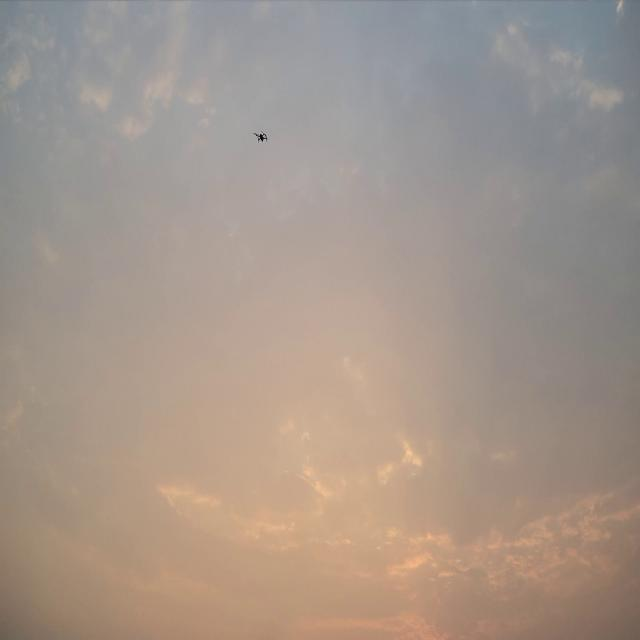drone: (253, 130, 268, 143)
